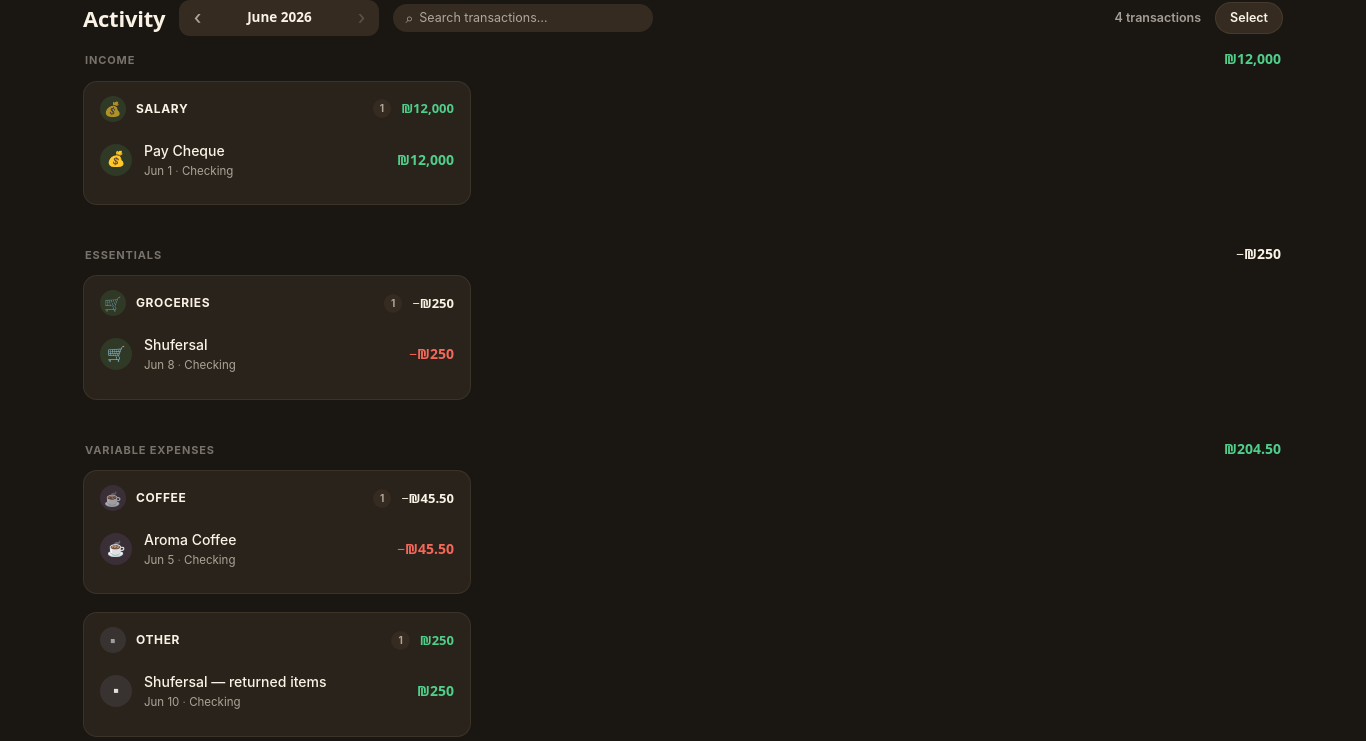
Test: ActivityView — refund linking › picking a category in the bulk dialog PATCHes every selected txn and exits batch mode
Click the button "Select" at {"x": 1249, "y": 18}, box [1215,2,1283,34]
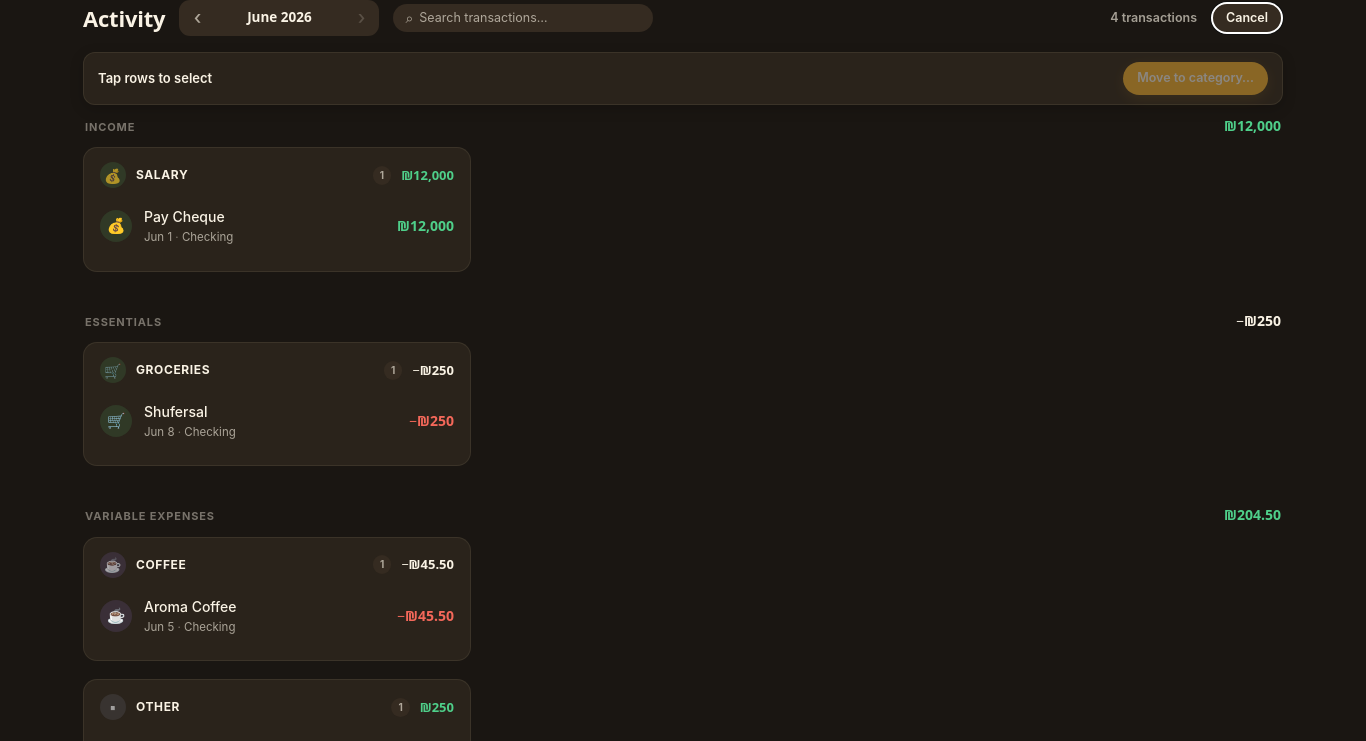
Click the text "Aroma Coffee" at {"x": 190, "y": 606}, box [144,598,236,615]
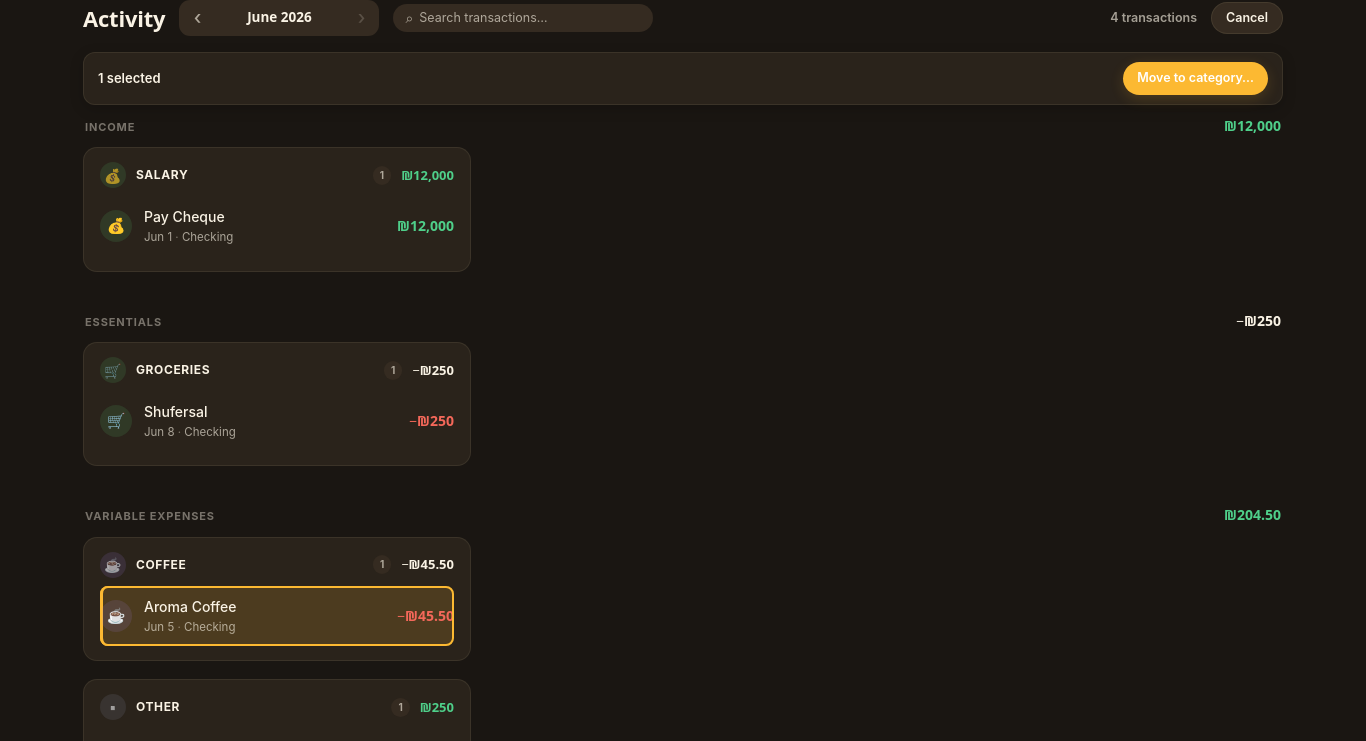
Click the text "Shufersal" at {"x": 176, "y": 412}, box [144,403,208,420]
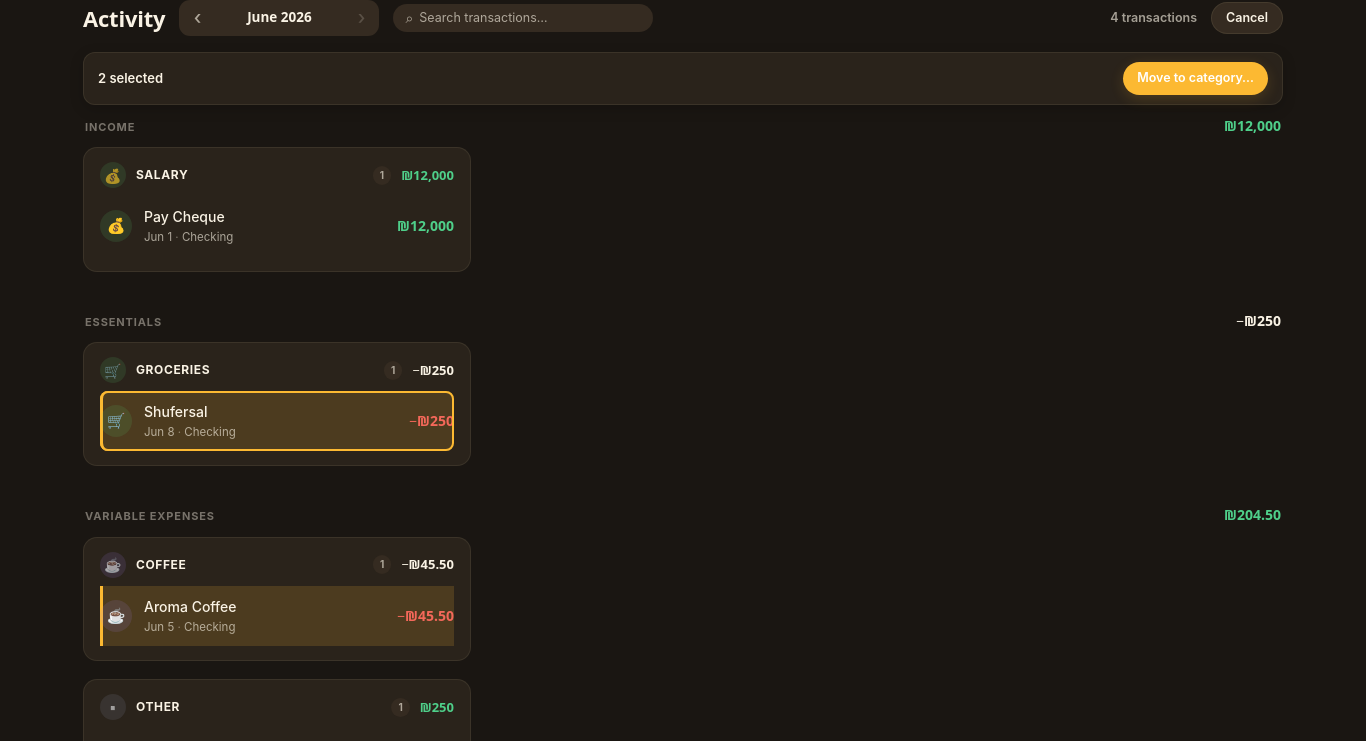
Click the button "Move to category…" at {"x": 1196, "y": 78}, box [1123,62,1268,95]
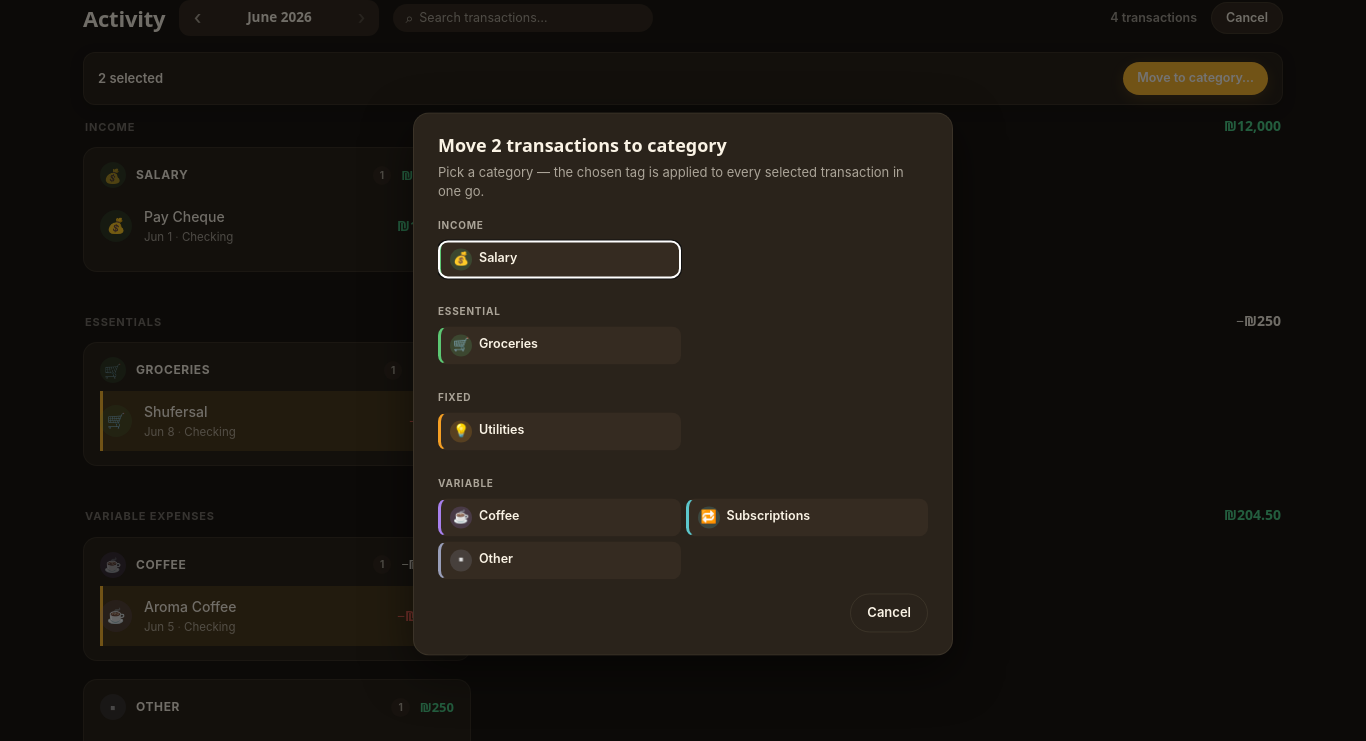
Click the text "Groceries" at {"x": 508, "y": 345}, box [479,336,538,354]
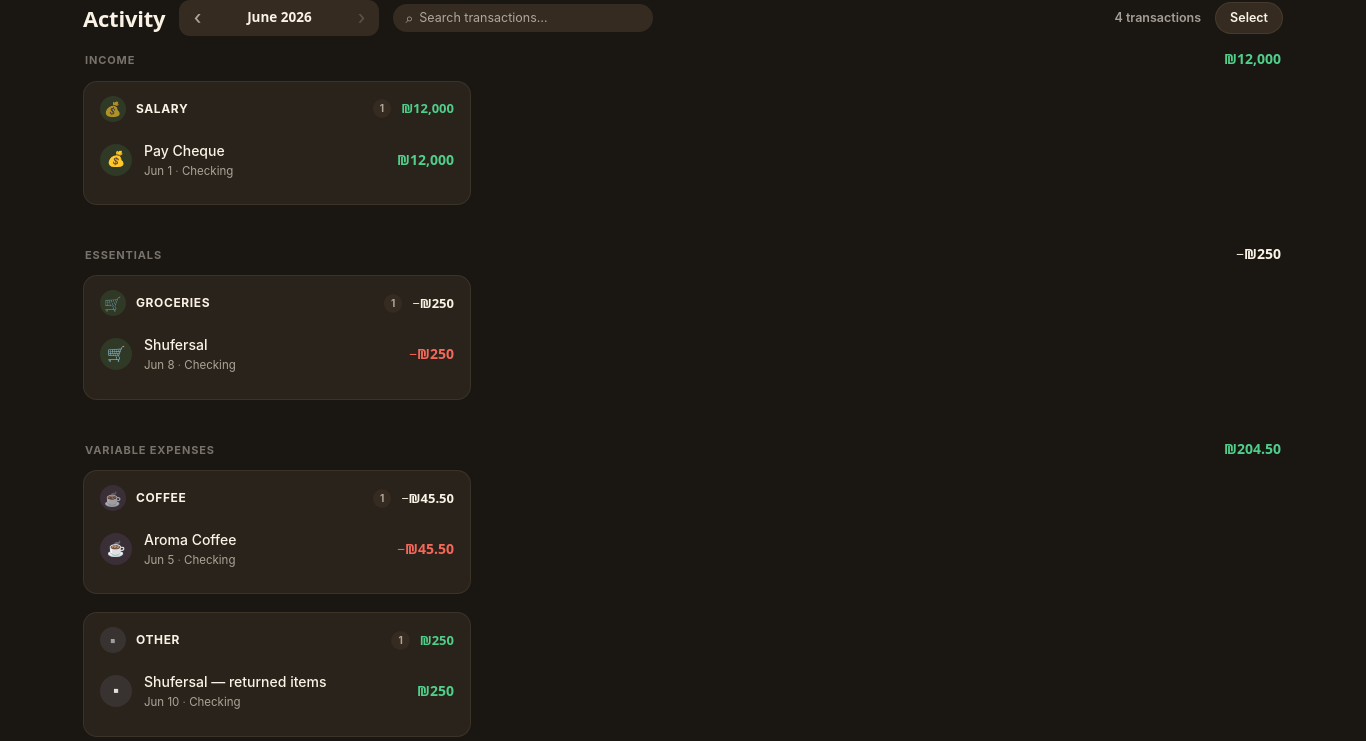
Expected: the element with test id "batch-bar" is gone
Expected: the button "Select" is shown, [1215,2,1283,34]
